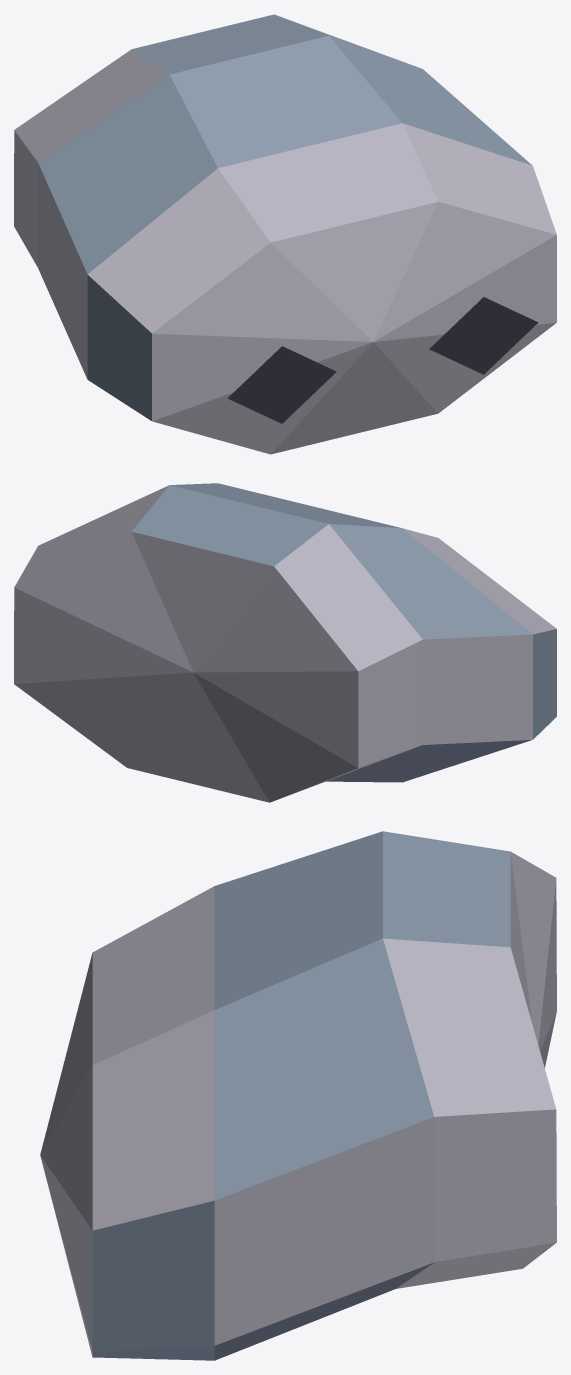
Rendered from nose_fb_soft.glb.
The picture shows the model from 3 angles, top to bottom: view 1: azimuth 30°, elevation 25°; view 2: azimuth 150°, elevation 25°; view 3: azimuth 270°, elevation 25°; orthographic projection. The views are drawn at different scales.
Visible parts, largest first — view 1: Snout; view 2: Snout; view 3: Snout.
Boxes of the visible parts, left/top/right/bottom form: Snout: left=14, top=14, right=556, bottom=454; Snout: left=14, top=483, right=556, bottom=802; Snout: left=40, top=831, right=556, bottom=1360.
Bounding box in the file's own units: 0.0407 × 0.0263 × 0.0311.
Materials: 1 (1 with a texture image).
